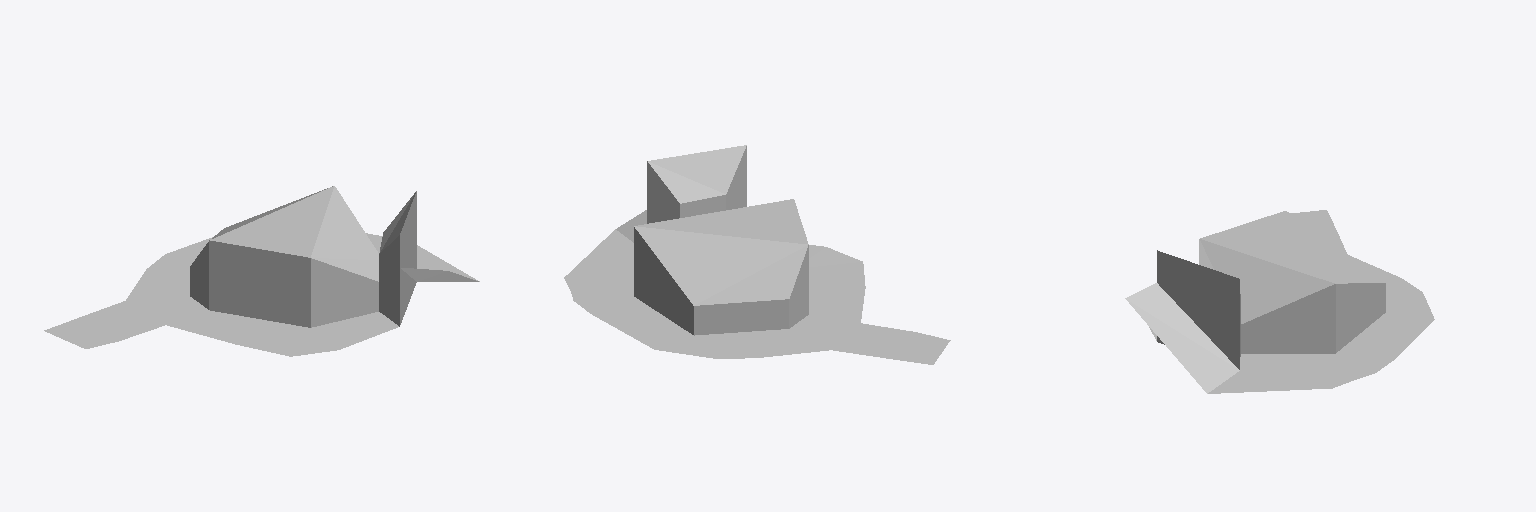
File: environment3.obj
3 views of the same model, side by side, from view 1: azimuth 30°, elevation 25°; view 2: azimuth 150°, elevation 25°; view 3: azimuth 270°, elevation 25° (orthographic).
Visible parts, largest first — view 1: Plane; view 2: Plane; view 3: Plane.
Boxes of the visible parts, box(x1,y1,x2,y2) form: Plane: box(44, 186, 479, 356); Plane: box(564, 145, 950, 364); Plane: box(1125, 210, 1434, 393).
Size of the model in its own units: 22.48 by 5.22 by 15.96.